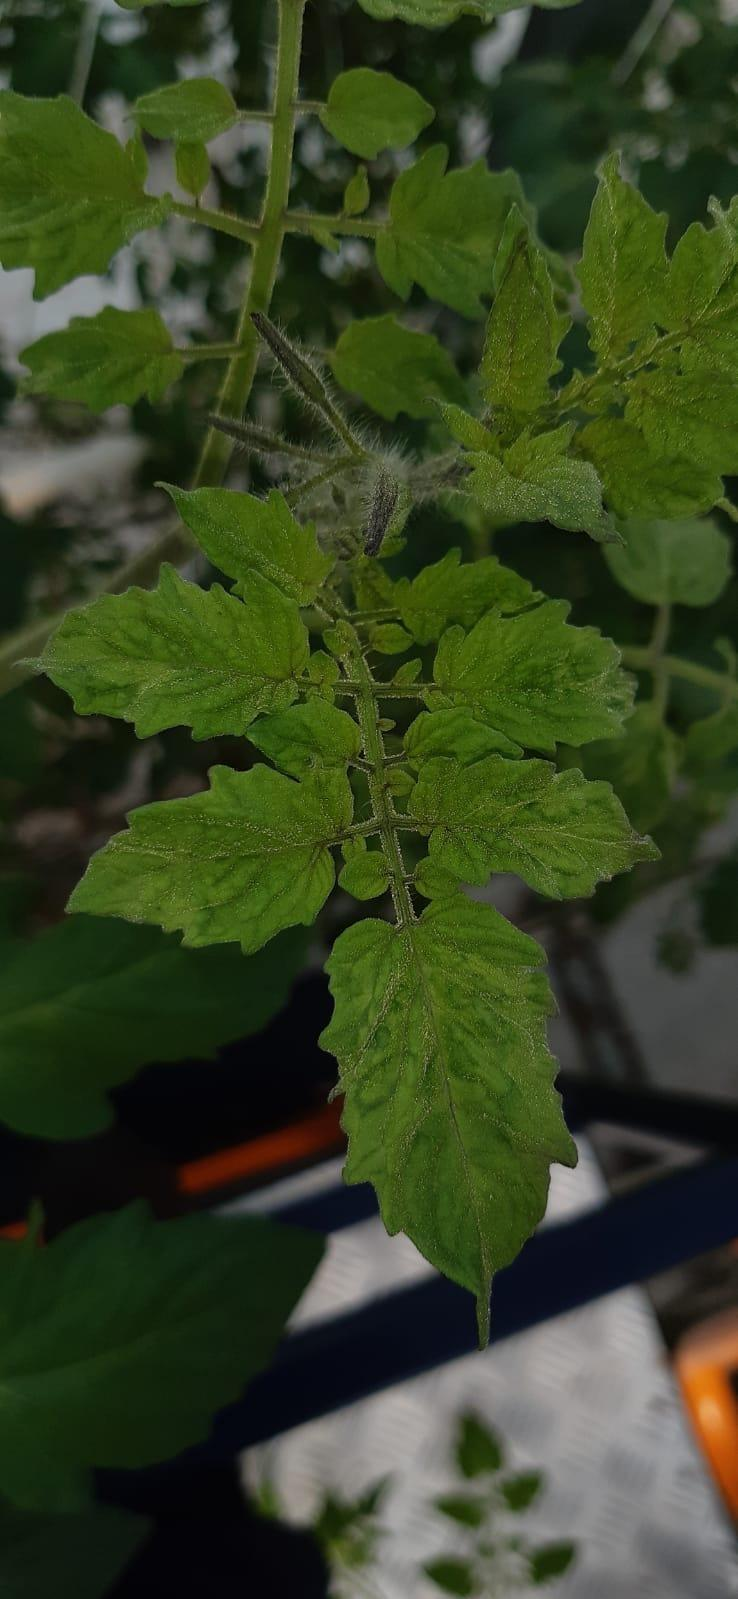Rugose Flower: (253, 312, 365, 456), (365, 471, 400, 555)
Rugose leaf: (321, 893, 574, 1334), (66, 763, 350, 953), (31, 564, 307, 738), (407, 755, 657, 898), (428, 600, 634, 747), (159, 484, 334, 606), (481, 209, 569, 429), (578, 153, 669, 364), (466, 424, 619, 540), (658, 200, 737, 382), (625, 368, 737, 475), (247, 697, 359, 778)
Rugose stem: (350, 653, 415, 924), (334, 681, 425, 700)
